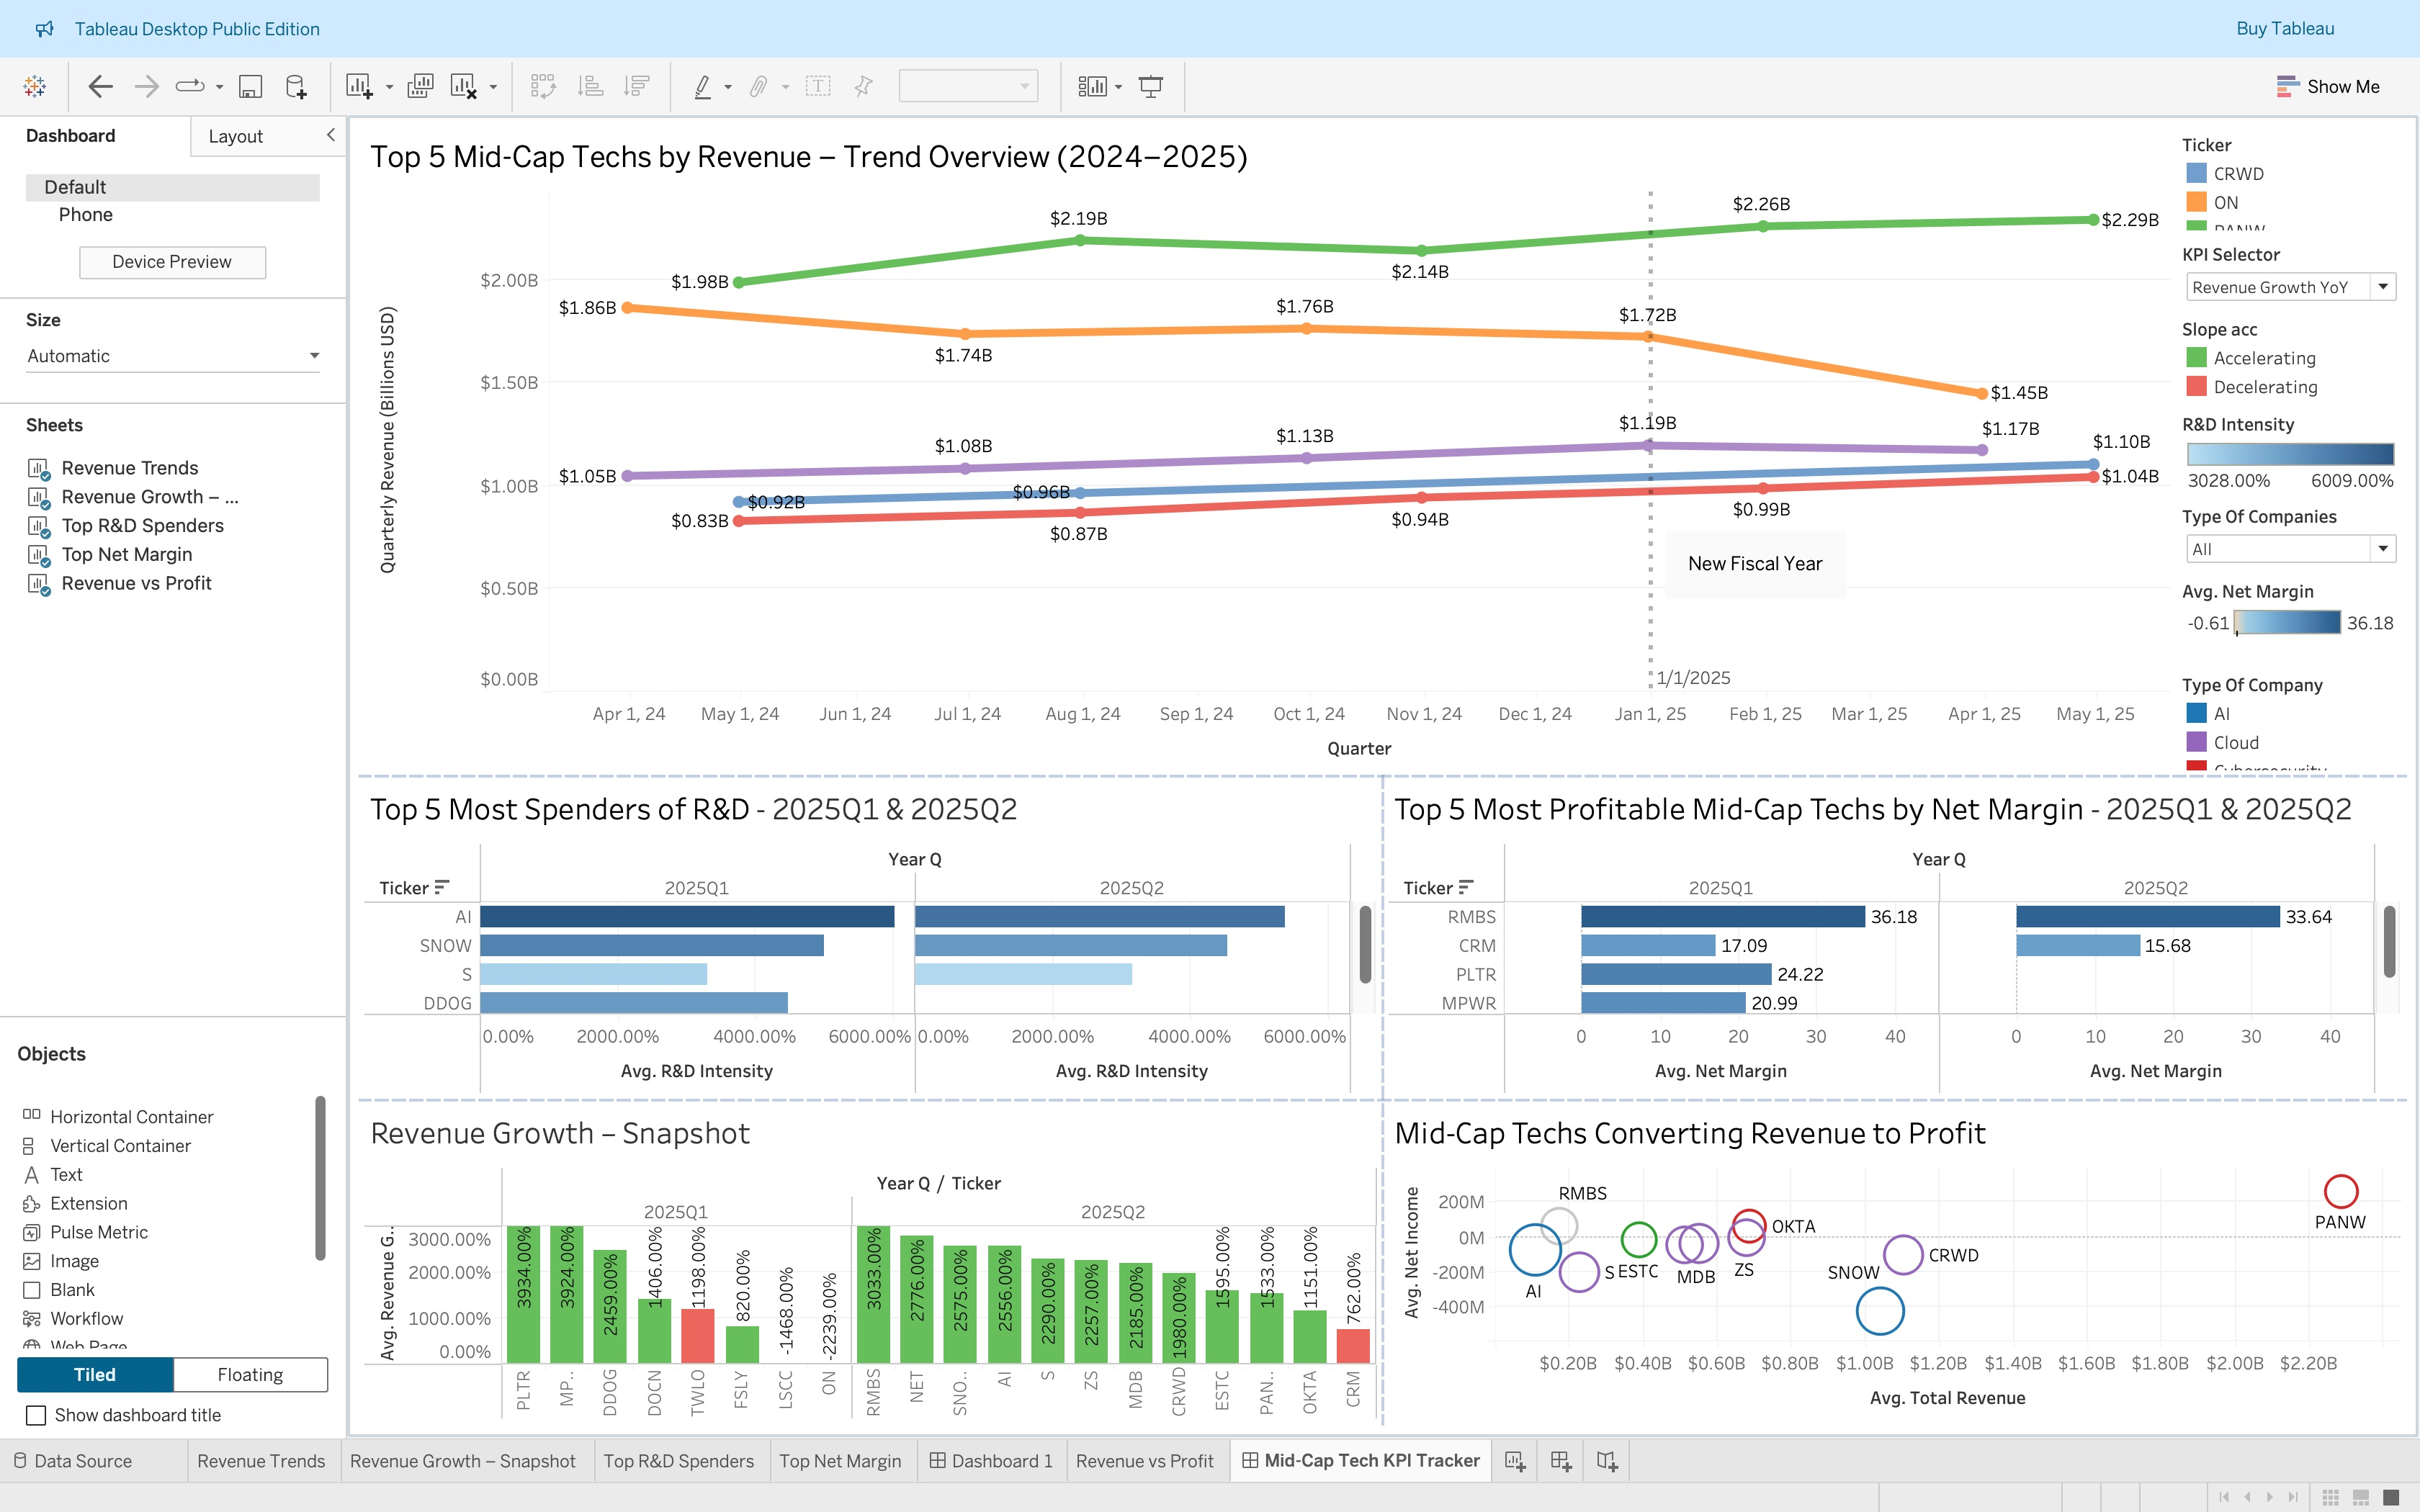

Layout of this report page (visuals, bound fields, positions):
{"tool":"tableau","page":{"name":"Mid-Cap Tech KPI Tracker","canvas":[1438,1218],"ordinal":0},"visuals":[{"type":"text","box":[8,8,1422,49.3]},{"type":"text","box":[8,57.3,1422,38.3]},{"type":"worksheet","title":"Revenue Trends","mark":"Line","rows":["Total Revenue"],"cols":["Quarter"],"box":[8,95.6,1251,342.4]},{"type":"parameter","param":"[Parameters].[Parameter 3]","box":[1259,95.6,171,52]},{"type":"legend","title":"Revenue Trends","param":"[federated.0kfufpg0n5ofjd1a0kah40abu110].[none:Calculation_2893281324265762838:n","box":[1259,147.6,171,106]},{"type":"worksheet","title":"Top R&D Spenders","mark":"Automatic","rows":["Ticker"],"cols":["YearQ","R&D Intensity"],"box":[8,438,711,389]},{"type":"worksheet","title":"Top Net Margin","mark":"Automatic","rows":["Ticker"],"cols":["YearQ","Net Margin"],"box":[719,438,711,389]},{"type":"legend","title":"Top R&D Spenders","param":"[federated.0kfufpg0n5ofjd1a0kah40abu110].[sum:R&D Intensity:qk]","box":[491,454,207,61]},{"type":"legend","title":"Top Net Margin","param":"[federated.0kfufpg0n5ofjd1a0kah40abu110].[avg:Net Margin:qk]","box":[1230,454,188,54]},{"type":"worksheet","title":"Revenue Growth – Snapshot","mark":"Automatic","rows":["Revenue Growth YoY"],"cols":["YearQ","Ticker"],"box":[8,827,711,332.6]},{"type":"worksheet","title":"Revenue vs Profit","mark":"Automatic","rows":["Net Income"],"cols":["Total Revenue"],"box":[719,827,711,332.6]},{"type":"legend","title":"Revenue Growth – Snapshot","param":"[federated.0kfufpg0n5ofjd1a0kah40abu110].[none:Calculation_2893281324233580551:n","box":[561,830,140,58]},{"type":"text","box":[8,1159.6,1422,50.4]}]}

Visuals, with their boxes on the page's 1438x1218 design canvas (x1, y1, x2, y2). These are canvas units, not pixel positions in the 2420x1512 screenshot, which may show the page scaled, cropped or inside an application window:
text: locate(8, 8, 1430, 57)
text: locate(8, 57, 1430, 96)
"Revenue Trends" worksheet (Line marks): locate(8, 96, 1259, 438)
parameter: locate(1259, 96, 1430, 148)
"Revenue Trends" legend: locate(1259, 148, 1430, 254)
"Top R&D Spenders" worksheet: locate(8, 438, 719, 827)
"Top Net Margin" worksheet: locate(719, 438, 1430, 827)
"Top R&D Spenders" legend: locate(491, 454, 698, 515)
"Top Net Margin" legend: locate(1230, 454, 1418, 508)
"Revenue Growth – Snapshot" worksheet: locate(8, 827, 719, 1160)
"Revenue vs Profit" worksheet: locate(719, 827, 1430, 1160)
"Revenue Growth – Snapshot" legend: locate(561, 830, 701, 888)
text: locate(8, 1160, 1430, 1210)
